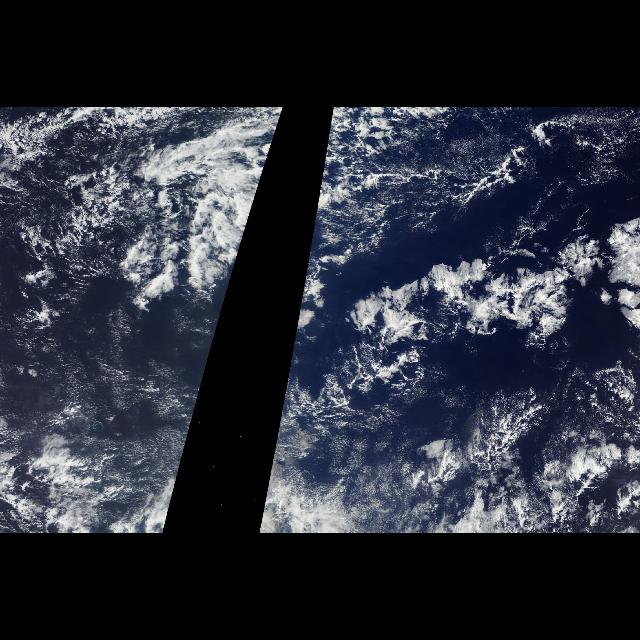Fish: (133, 119, 217, 301)
Flower: (336, 211, 640, 389)
Gravel: (2, 109, 188, 334), (437, 395, 639, 533), (306, 111, 416, 279), (264, 111, 282, 170)
Sugar: (10, 303, 224, 533), (259, 310, 435, 532), (373, 113, 625, 215)
